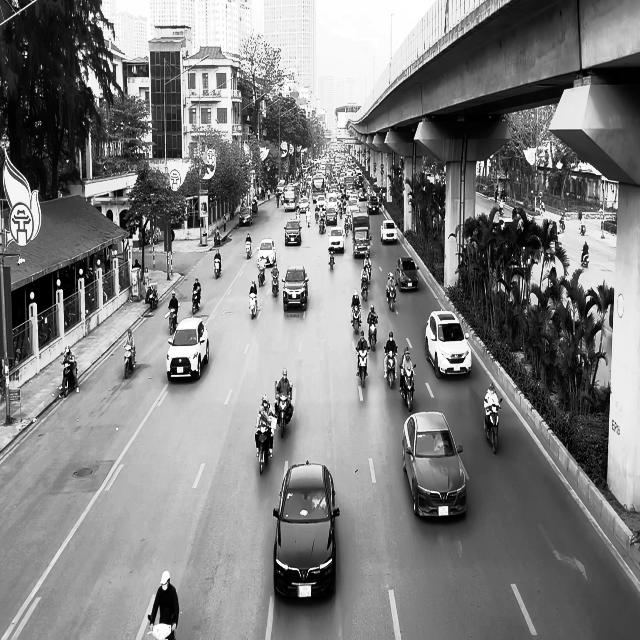car: (272, 460, 340, 600), (402, 410, 469, 518), (424, 309, 472, 379), (166, 317, 209, 382), (282, 266, 308, 311), (396, 257, 420, 291), (257, 238, 276, 266), (284, 219, 302, 246), (328, 226, 344, 253), (380, 219, 397, 244), (239, 206, 252, 226)
motorbike: (483, 397, 502, 454), (274, 386, 293, 437), (255, 423, 273, 474), (399, 363, 416, 411), (58, 361, 79, 398), (356, 345, 370, 387), (384, 349, 396, 388), (367, 316, 378, 351), (124, 344, 135, 379), (165, 307, 178, 335), (351, 302, 361, 334), (248, 292, 258, 319), (386, 285, 396, 311), (148, 284, 158, 310), (271, 271, 279, 297), (192, 288, 200, 313), (328, 247, 335, 270), (581, 247, 589, 267), (214, 257, 221, 279), (258, 265, 265, 287), (245, 240, 252, 259)
